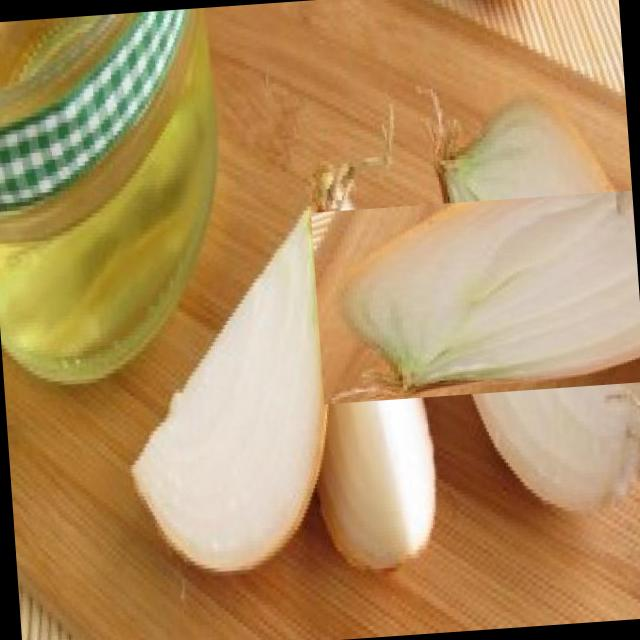Onion: (94, 140, 446, 614), (368, 128, 640, 460)
